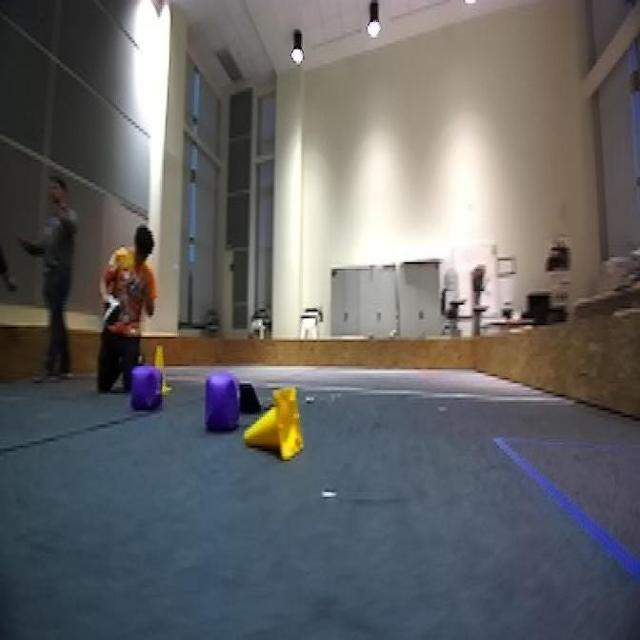frc_cone: (242, 383, 304, 460), (152, 340, 176, 402)
frc_cube: (204, 371, 237, 439), (128, 364, 164, 417)
